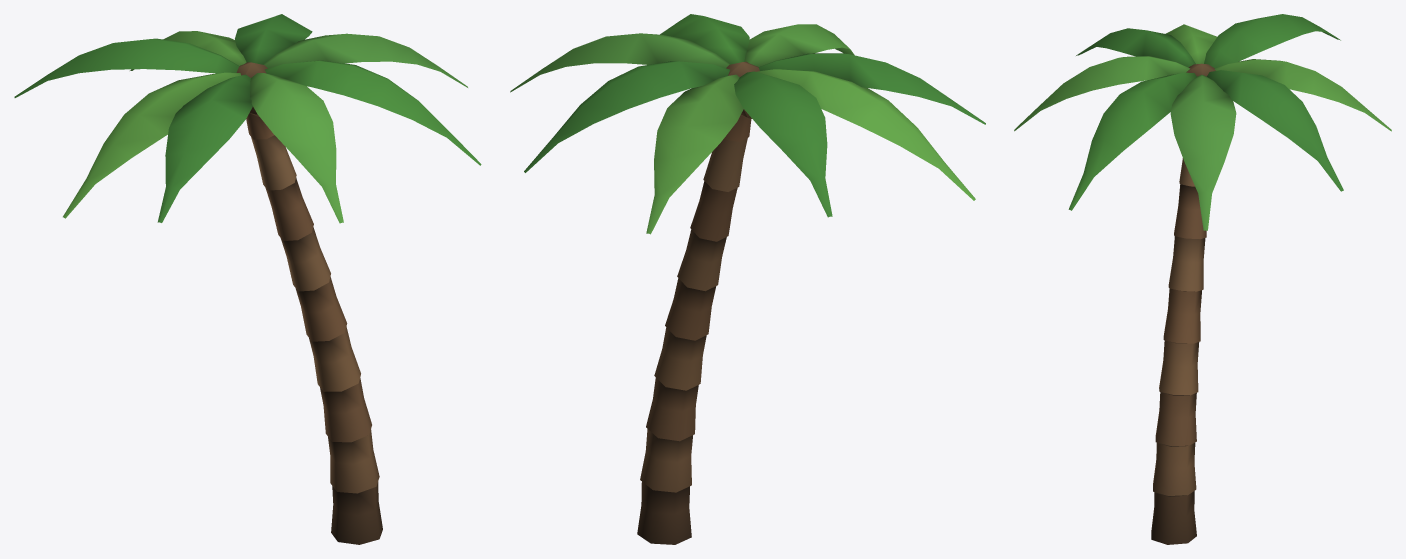
File: HD_Palm_A.glb
3 views of the same model, side by side, from view 1: azimuth 30°, elevation 25°; view 2: azimuth 150°, elevation 25°; view 3: azimuth 270°, elevation 25° (orthographic). The views are drawn at different scales.
Visible parts, largest first — view 1: HD_Palm_A_2_SmoothPlastic, HD_Palm_A_1_Wood; view 2: HD_Palm_A_2_SmoothPlastic, HD_Palm_A_1_Wood; view 3: HD_Palm_A_2_SmoothPlastic, HD_Palm_A_1_Wood.
Part boxes in pixels (x1,y1,x2,y2): HD_Palm_A_2_SmoothPlastic: [14, 14, 481, 223]; HD_Palm_A_1_Wood: [236, 62, 382, 544]; HD_Palm_A_2_SmoothPlastic: [510, 14, 985, 234]; HD_Palm_A_1_Wood: [637, 61, 759, 544]; HD_Palm_A_2_SmoothPlastic: [1014, 14, 1391, 230]; HD_Palm_A_1_Wood: [1151, 63, 1215, 544].
Size of the model in its own units: 15.34 by 17.25 by 13.19.
